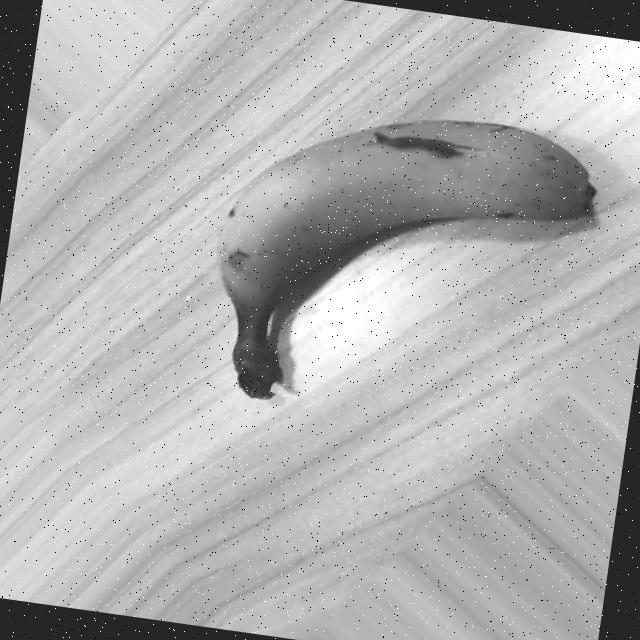Unripe: (193, 86, 608, 443)
